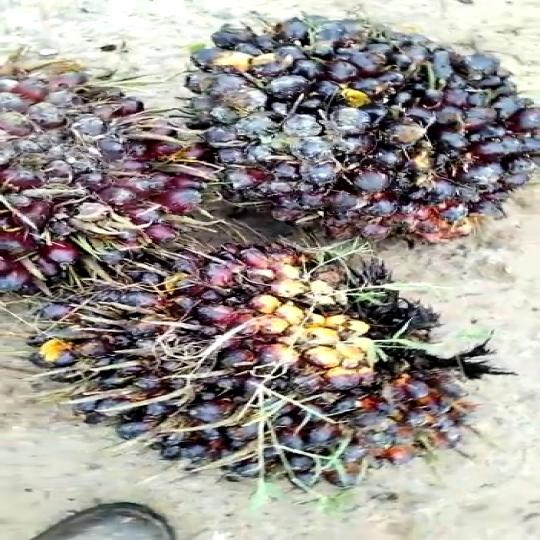kurang masak: (19, 247, 498, 488), (145, 7, 540, 242), (0, 32, 207, 272)
